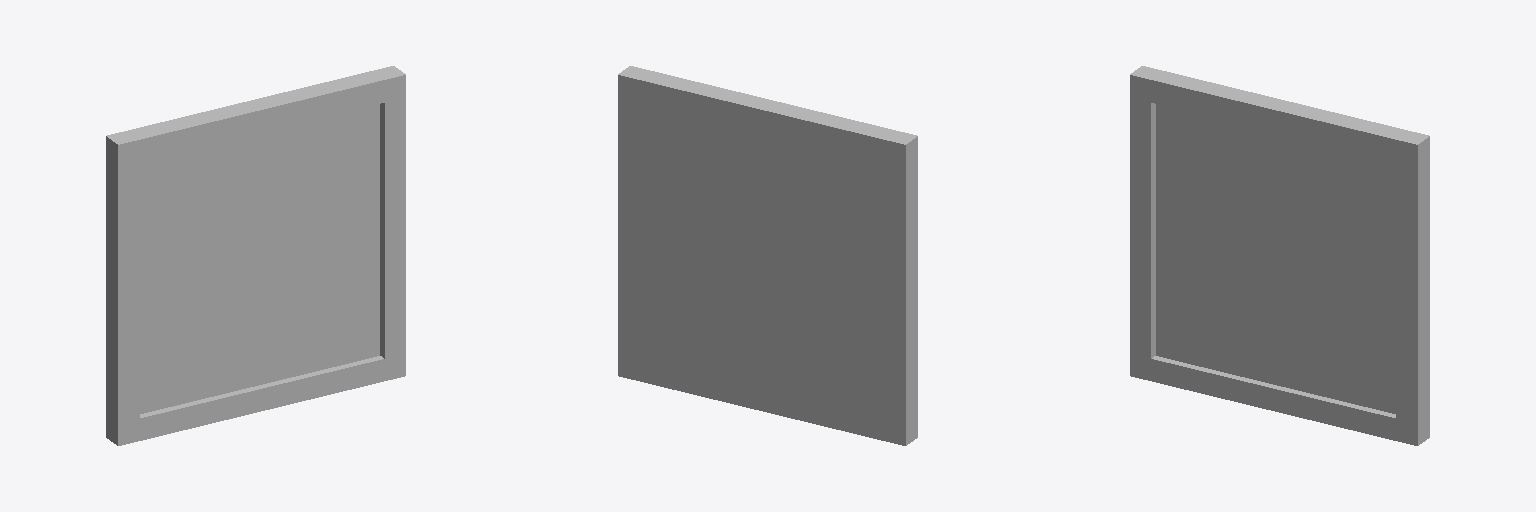
File: frame.obj
The picture shows the model from 3 angles: view 1: azimuth 30°, elevation 25°; view 2: azimuth 150°, elevation 25°; view 3: azimuth 330°, elevation 25°; orthographic projection.
Parts seen in each view (by area): view 1: frame; view 2: frame; view 3: frame.
Boxes of the visible parts, <box> form: frame: <box>106,66,405,445</box>; frame: <box>618,66,917,445</box>; frame: <box>1130,66,1429,445</box>.
Bounding box in the file's own units: 40 × 40 × 3.